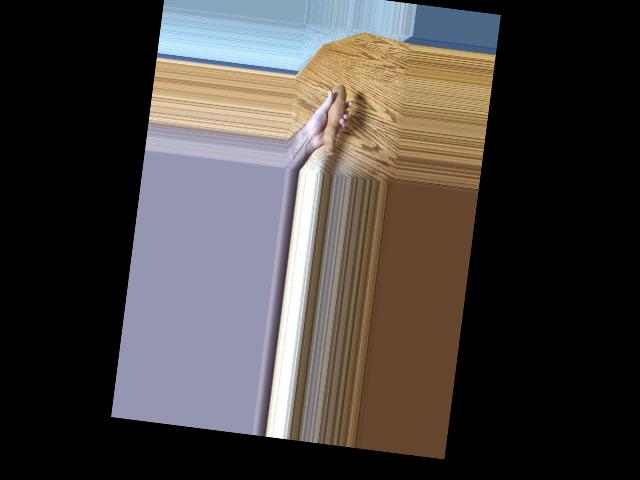sweet_potato: (312, 76, 350, 159)
